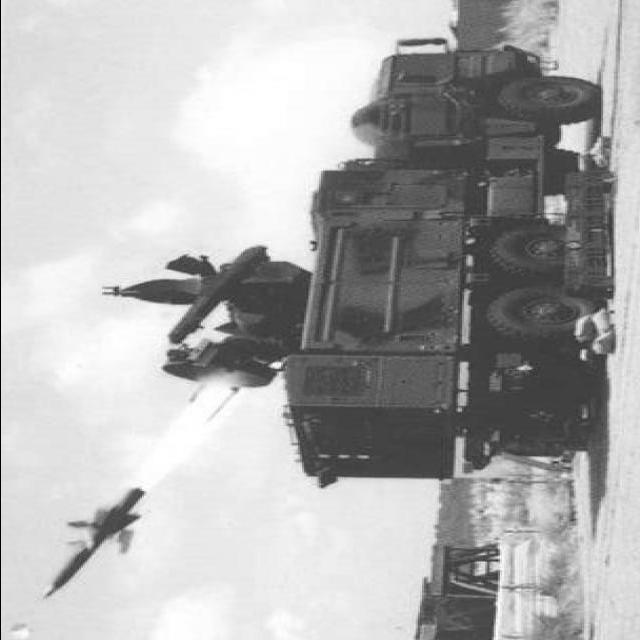missile: (36, 481, 156, 599)
